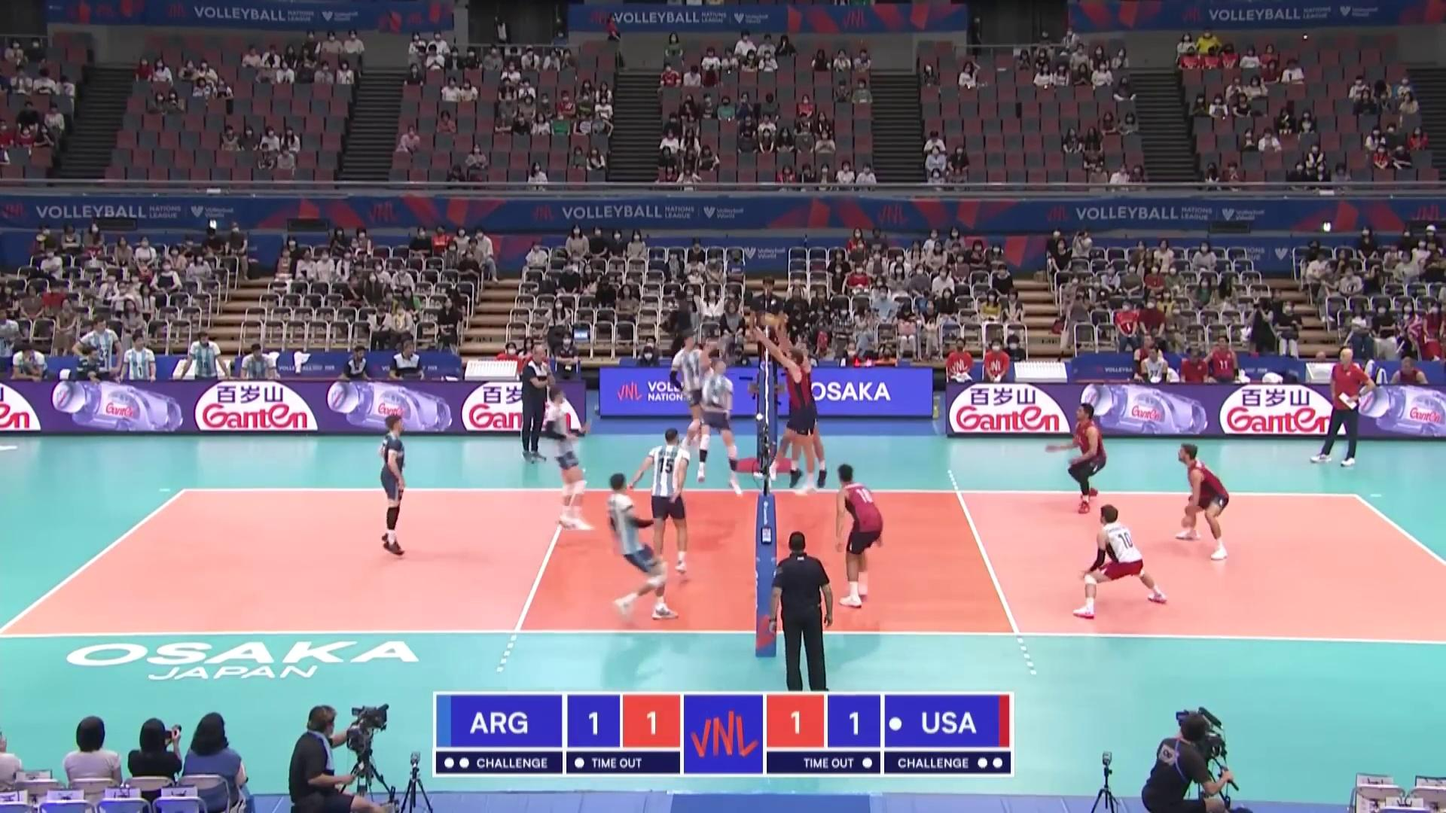player: (604, 473, 679, 621), (1072, 506, 1169, 618), (636, 429, 692, 580), (835, 464, 886, 612), (543, 386, 592, 535), (697, 349, 746, 498), (766, 347, 814, 496), (1175, 443, 1230, 562), (785, 340, 828, 492), (1055, 404, 1108, 512), (672, 329, 712, 455), (378, 414, 410, 555)
refree: (770, 531, 834, 689), (749, 276, 784, 385)
